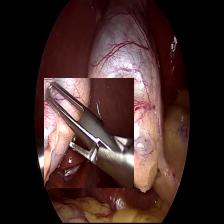Grasper: (44, 78, 134, 188)
